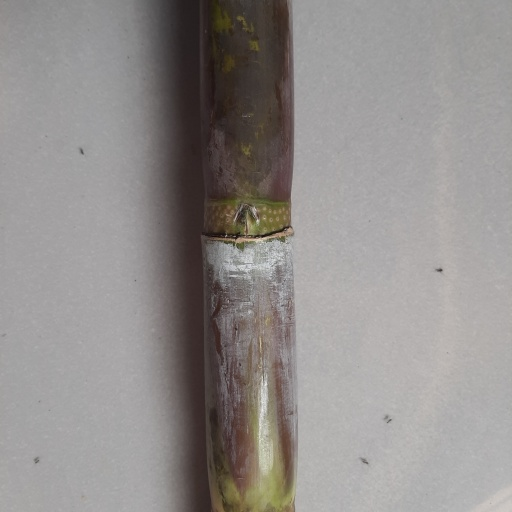Bud: (233, 204, 261, 238)
